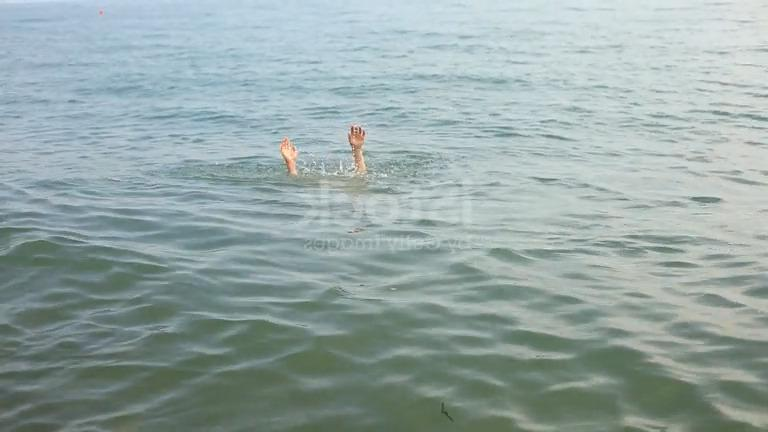Drowning: (243, 78, 572, 259)
